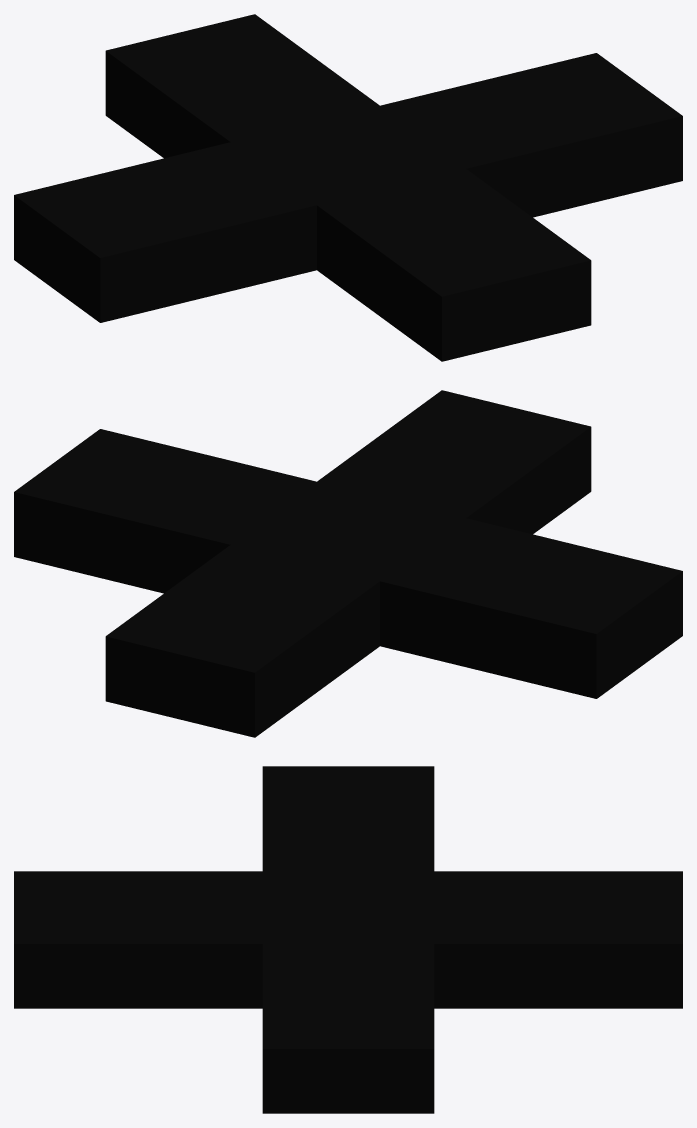
Rendered from cross.fbx.
The picture shows the model from 3 angles, top to bottom: view 1: azimuth 30°, elevation 25°; view 2: azimuth 150°, elevation 25°; view 3: azimuth 270°, elevation 25°; orthographic projection.
Visible parts, largest first — view 1: root (×2); view 2: root (×2); view 3: root (×2).
Part boxes in pixels (x1,y1,x2,y2): root (×2): (14, 14, 682, 361); root (×2): (14, 390, 682, 737); root (×2): (14, 766, 682, 1113).
Bounding box in the file's own units: 0.495 × 0.0528 × 0.495.
2 materials, 2 textured.
